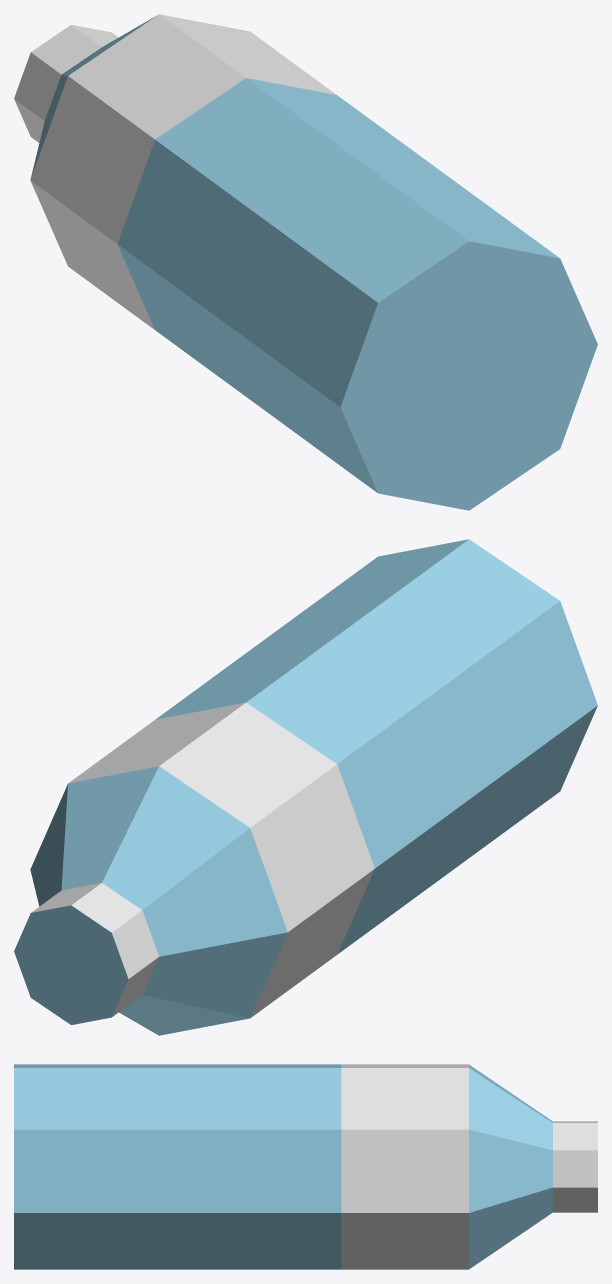
The model's file is WaterBottle.fbx.
The picture shows the model from 3 angles, top to bottom: view 1: azimuth 30°, elevation 25°; view 2: azimuth 150°, elevation 25°; view 3: azimuth 270°, elevation 25°; orthographic projection. The views are drawn at different scales.
Visible parts, largest first — view 1: Water_bottle_01.001; view 2: Water_bottle_01.001; view 3: Water_bottle_01.001.
Part boxes in pixels (left/top/right/bottom): Water_bottle_01.001: left=14, top=14, right=597, bottom=510; Water_bottle_01.001: left=14, top=539, right=597, bottom=1035; Water_bottle_01.001: left=14, top=1064, right=597, bottom=1269.
Size of the model in its own units: 34.88 by 34.88 by 93.35.
